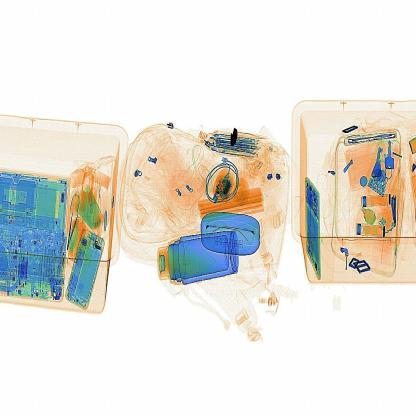knife: (220, 120, 245, 153)
